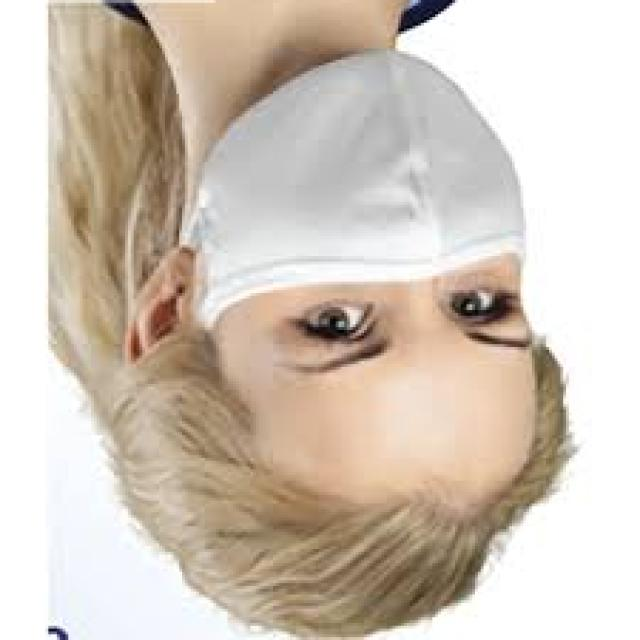mask: (124, 54, 543, 352)
